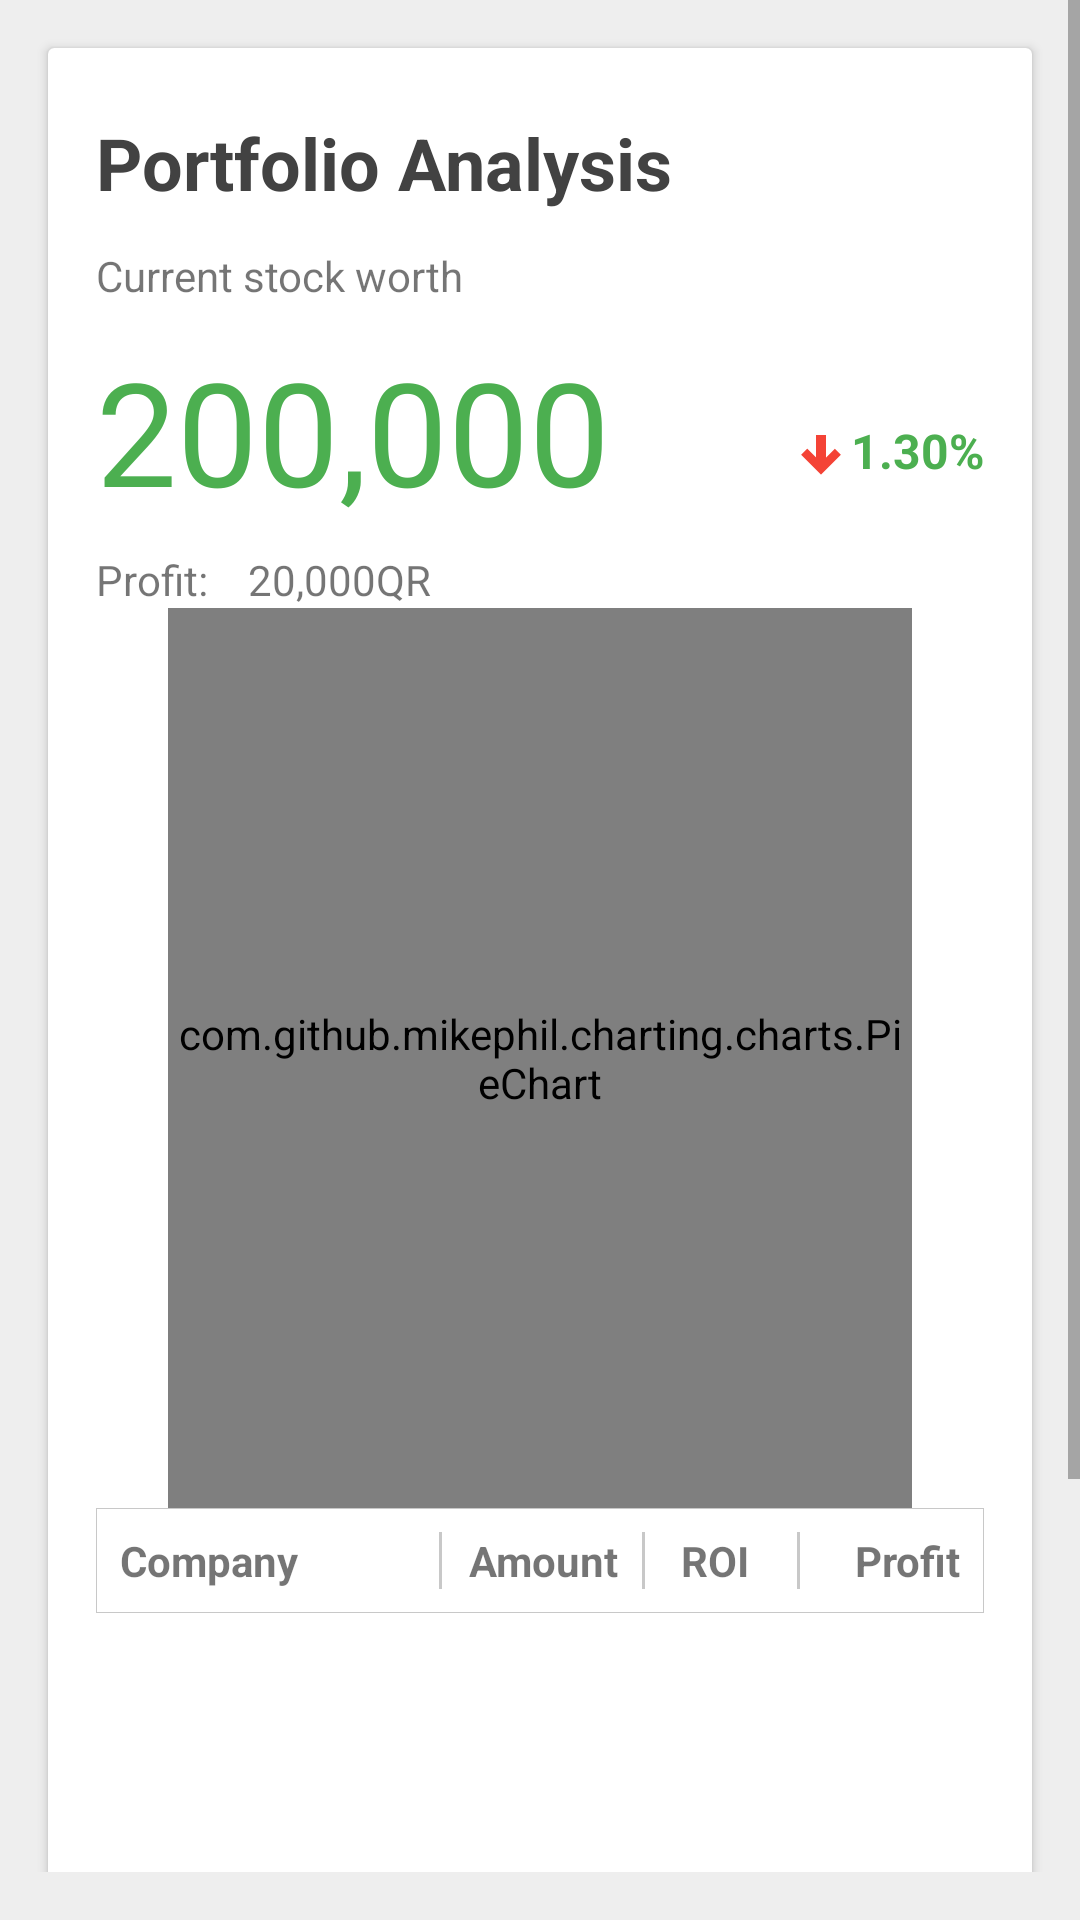

Point at icon controls on the screen. Image size 1080 x 1920, points as (x,y).
arrow down: (821,455)
